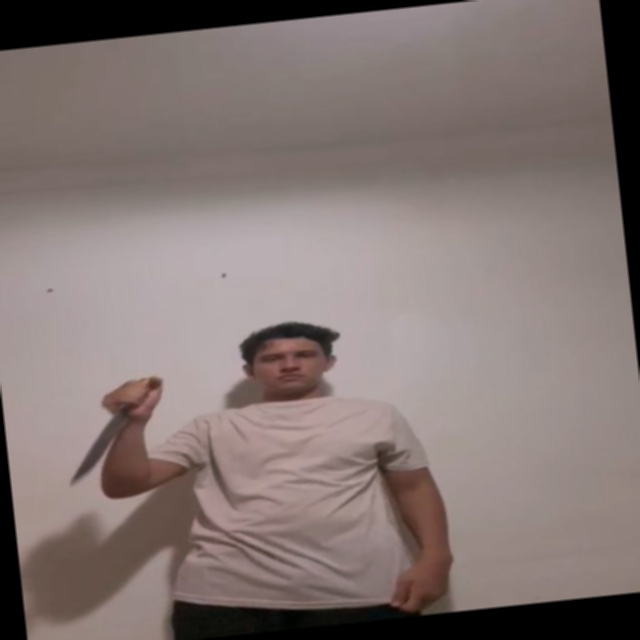Sharp-Object: (68, 410, 132, 481)
